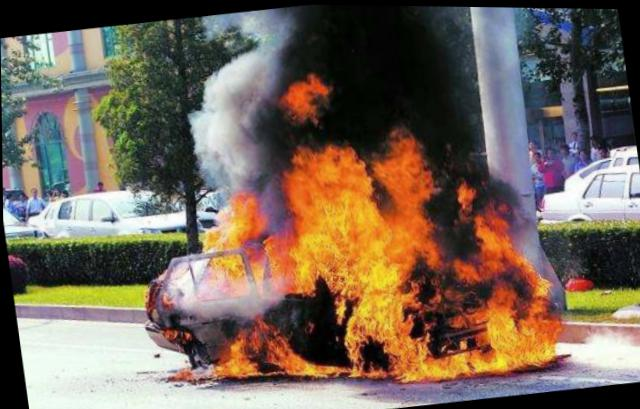fire: (119, 40, 571, 408)
